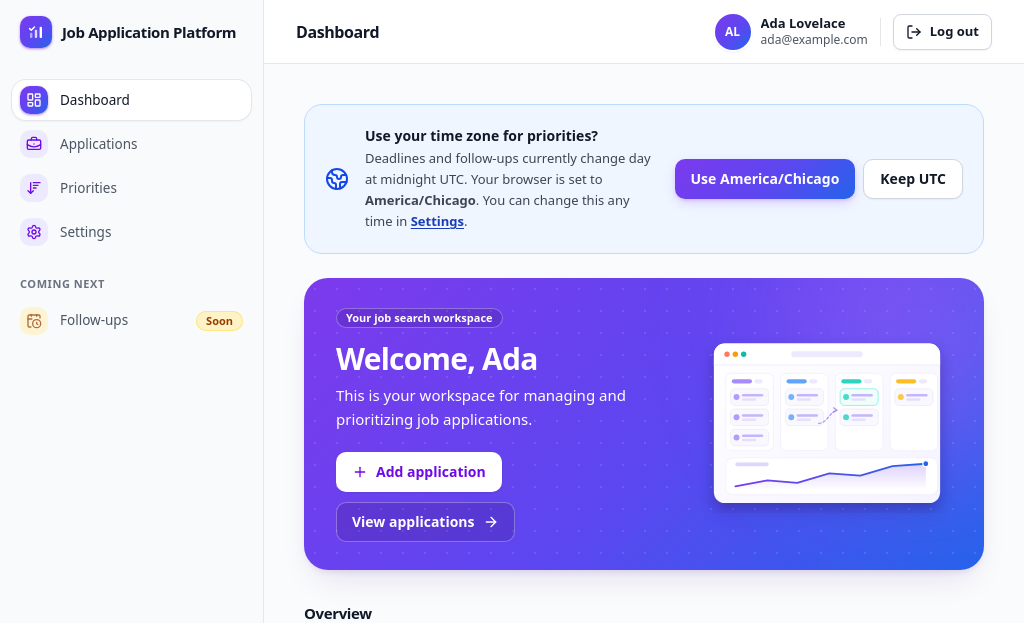
Test: time zone preference › a default (UTC) account gets a one-time suggestion; nothing is saved without a click
The image size is (1024, 623).
expect the element with test id "timezone-suggestion" shows "Your browser is set to America/Chicago": met, box [304,104,984,254]
Click the button "Use America/Chicago": (765, 179) [674,159,855,199]
(page scrolled)
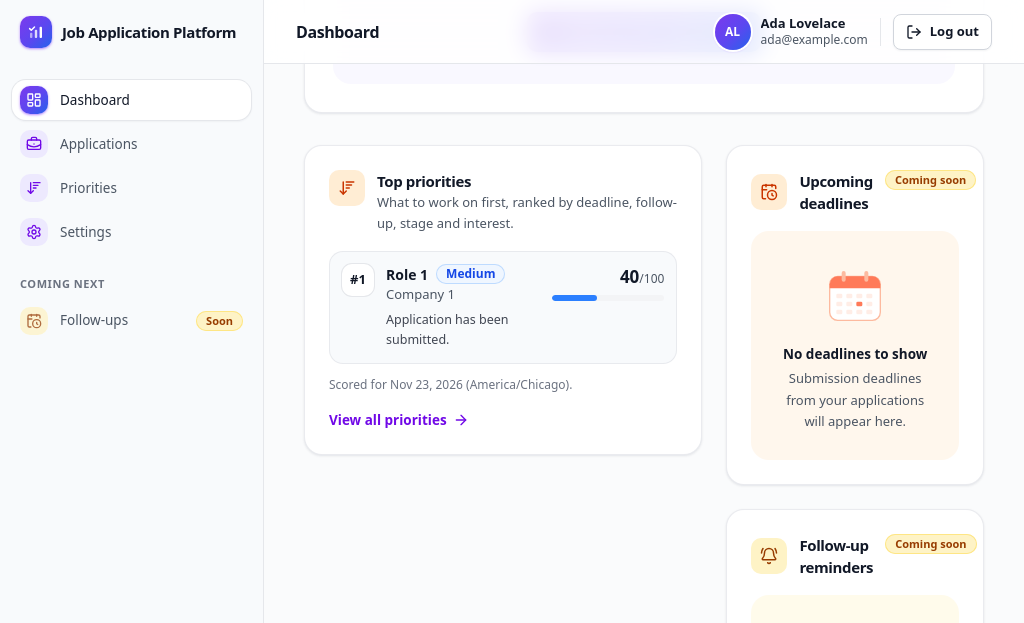
expect the element with test id "timezone-suggestion" is gone: met
expect the text with test id "top-priorities-date" shows "(America/Chicago)": met, box [470,376,566,393]
